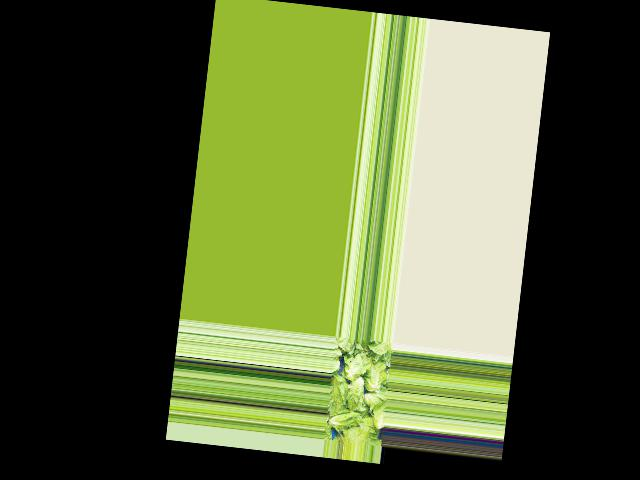lettuce: (369, 398, 386, 434)
